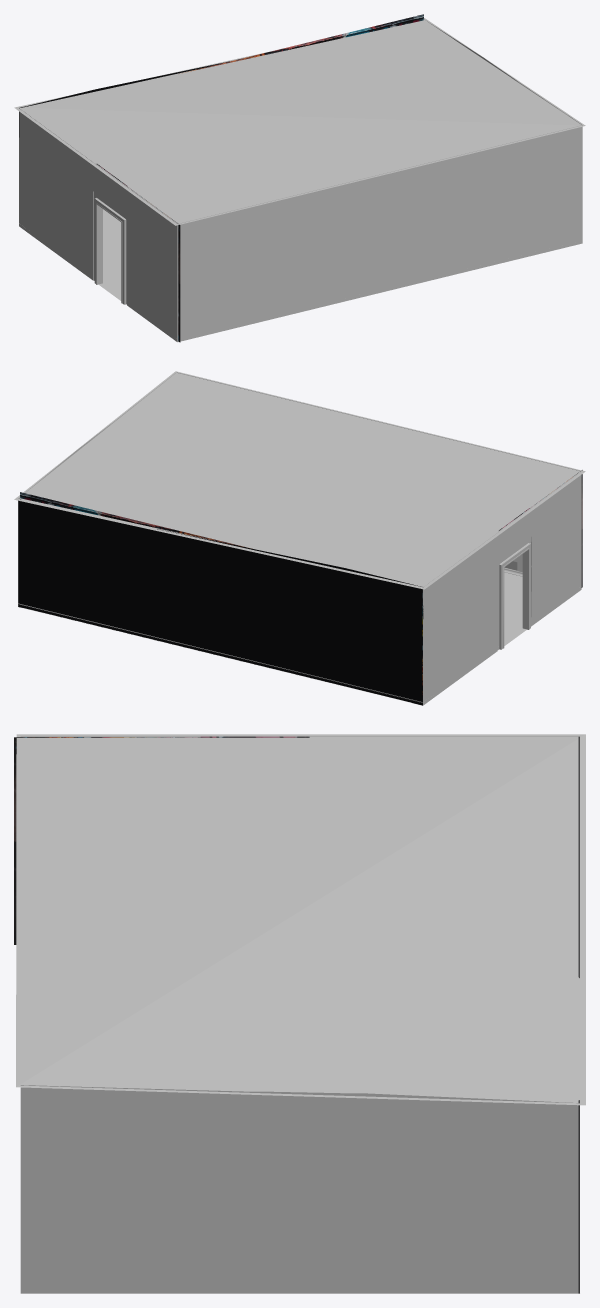
Rendered from PAINTROOM.fbx.
3 renders of one model, top to bottom at view 1: azimuth 30°, elevation 25°; view 2: azimuth 150°, elevation 25°; view 3: azimuth 270°, elevation 25°, orthographic. The views are drawn at different scales.
Parts seen in each view (by area): view 1: low:roof1, polySurface7, pPlane2; view 2: low:roof1, polySurface7, pPlane2; view 3: low:roof1, low:pPlane1.
Boxes of the visible parts, x1,y1,x2,y2 form: low:roof1: (14,18,585,342); polySurface7: (94,198,126,304); pPlane2: (182,14,423,73); low:roof1: (14,371,585,705); polySurface7: (499,543,530,649); pPlane2: (20,492,251,548); low:roof1: (16,734,585,1293); low:pPlane1: (14,737,204,944).
Size of the model in its own units: 1072 by 297 by 734.
